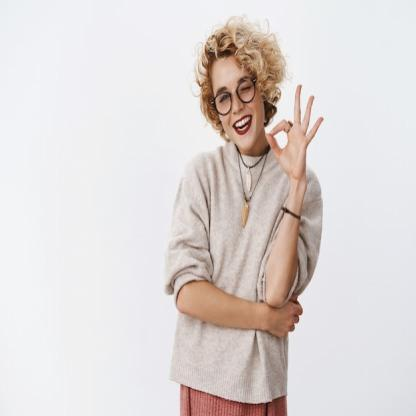ok: (264, 82, 326, 186)
